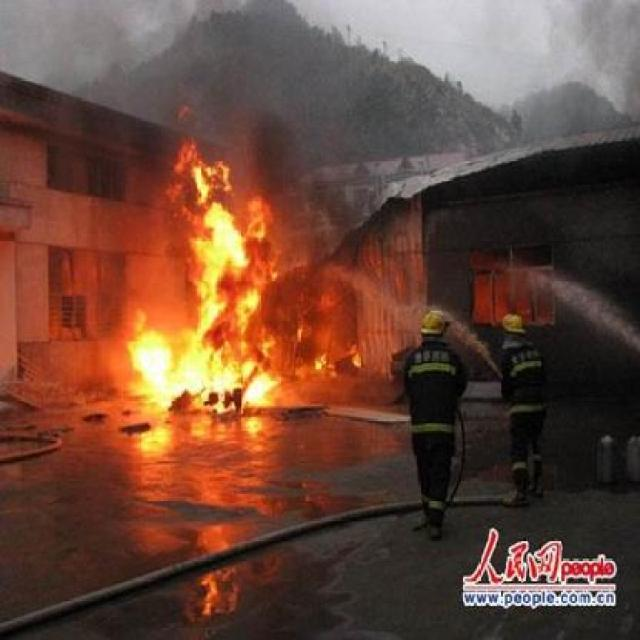Fire: (130, 110, 288, 440)
